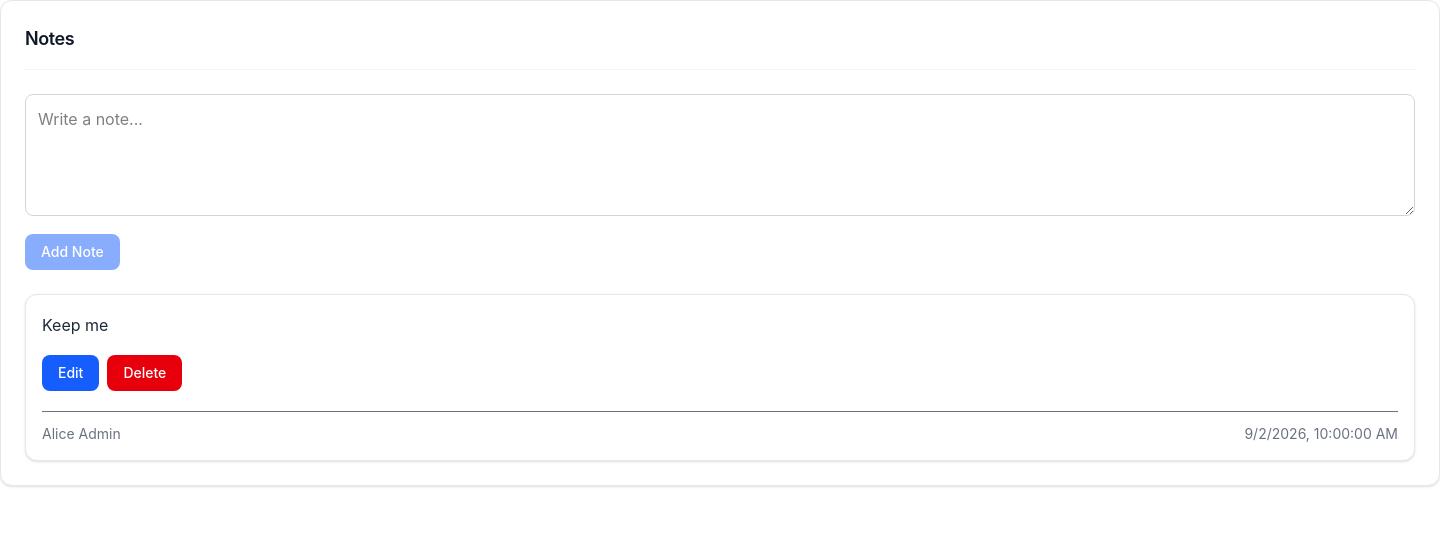
Test: LeadNotes › cancels an edit without saving
expect the text "Keep me" is shown: met, box x1=42 y1=315 x2=108 y2=335
Click the button "Edit".
click(71, 373)  # box x1=42 y1=355 x2=99 y2=391
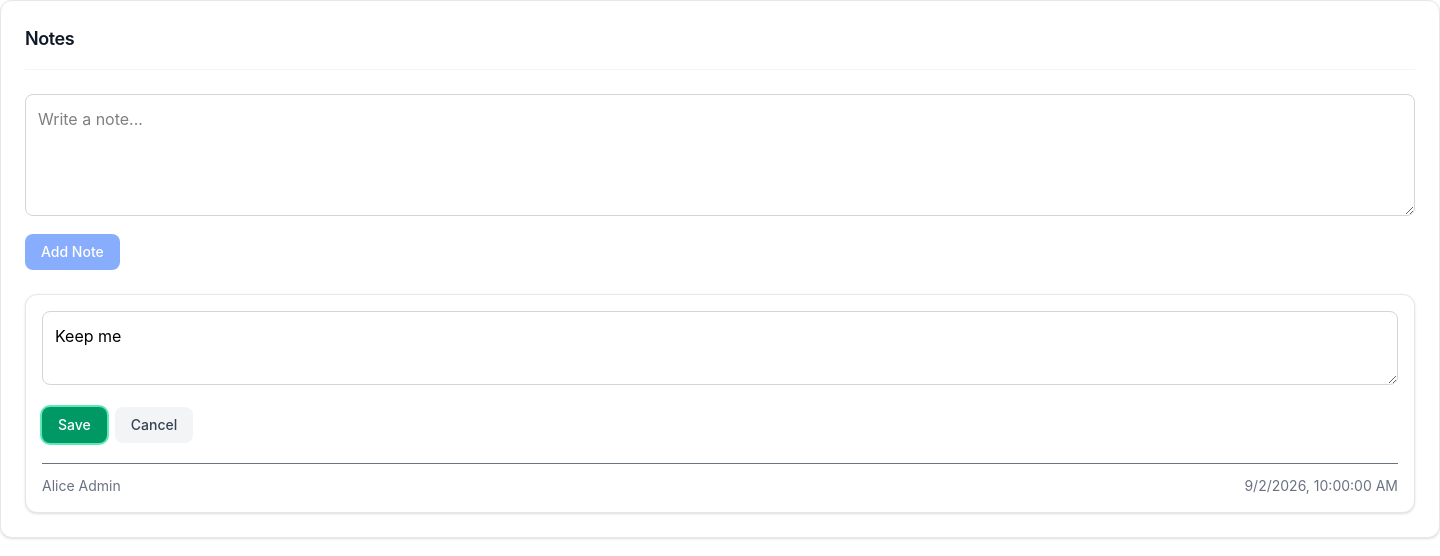
Type " changed" into the text box showing "Keep me".
click(720, 348); type(" changed")  # box x1=42 y1=311 x2=1398 y2=385
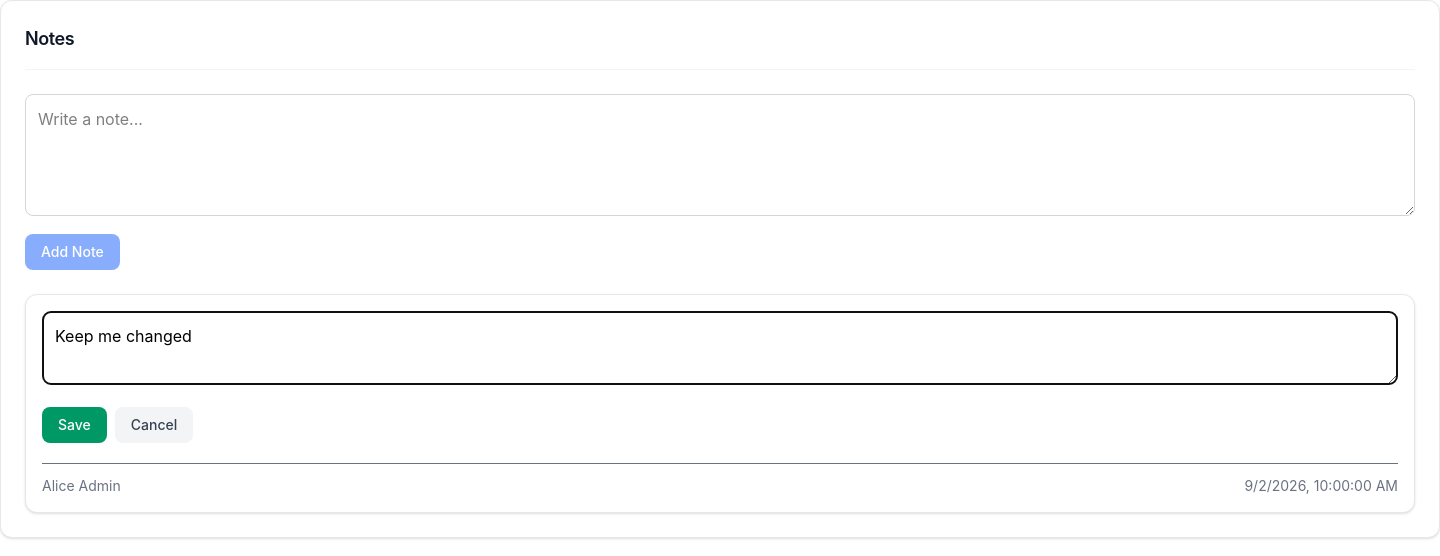
Click the button "Cancel".
click(154, 425)  # box x1=115 y1=407 x2=193 y2=443
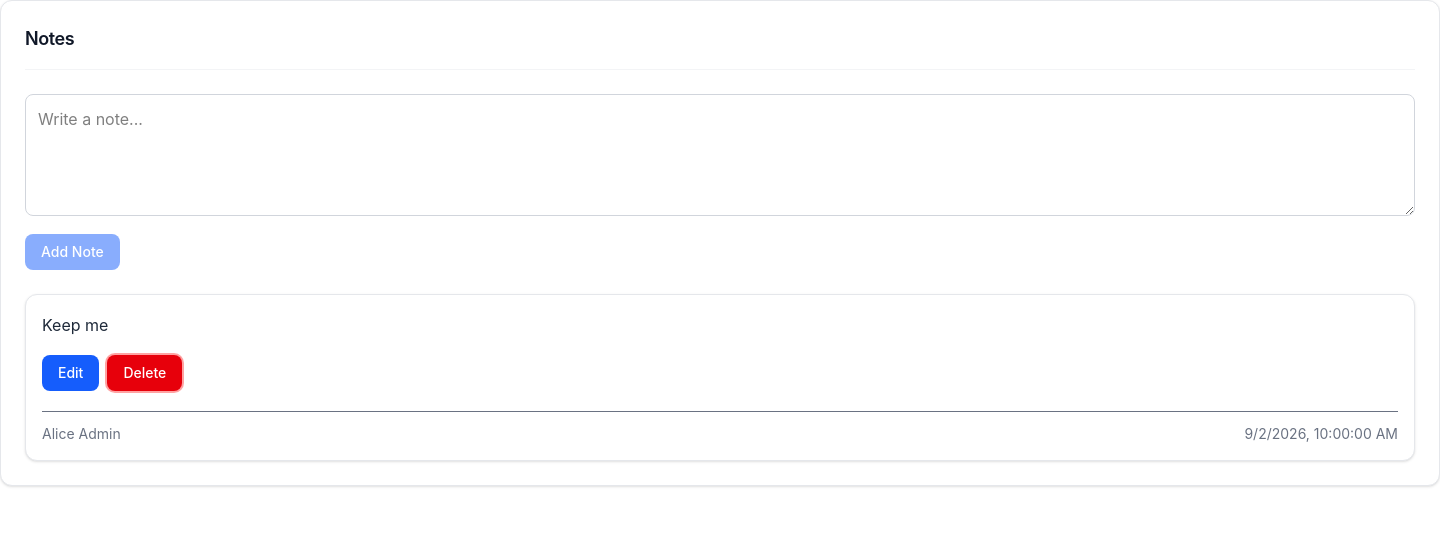
expect the text "Keep me" is shown: met, box x1=42 y1=315 x2=108 y2=335
